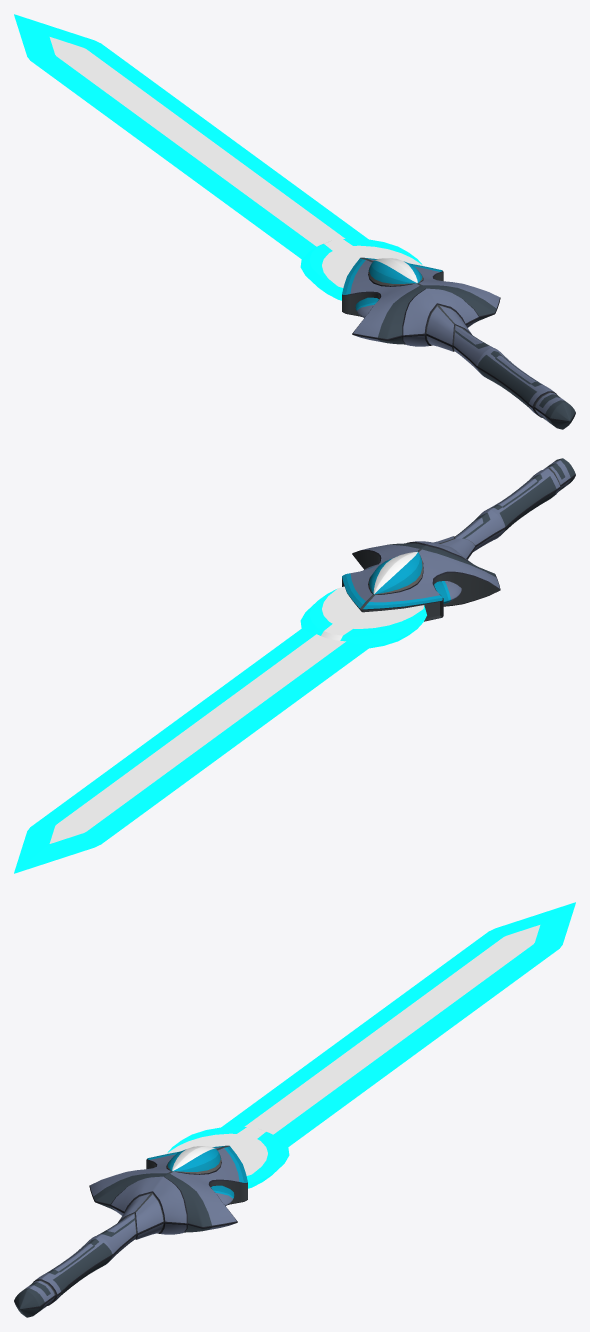
The model's file is Star sword_s.fbx.
The picture shows the model from 3 angles, top to bottom: view 1: azimuth 30°, elevation 25°; view 2: azimuth 150°, elevation 25°; view 3: azimuth 330°, elevation 25°; orthographic projection.
Visible parts, largest first — view 1: Cube.010; view 2: Cube.010; view 3: Cube.010.
Part boxes in pixels (x1,y1,x2,y2): Cube.010: (14,14,575,429); Cube.010: (14,458,575,873); Cube.010: (14,902,575,1317).
Size of the model in its own units: 0.9659 by 0.3956 by 6.25.
